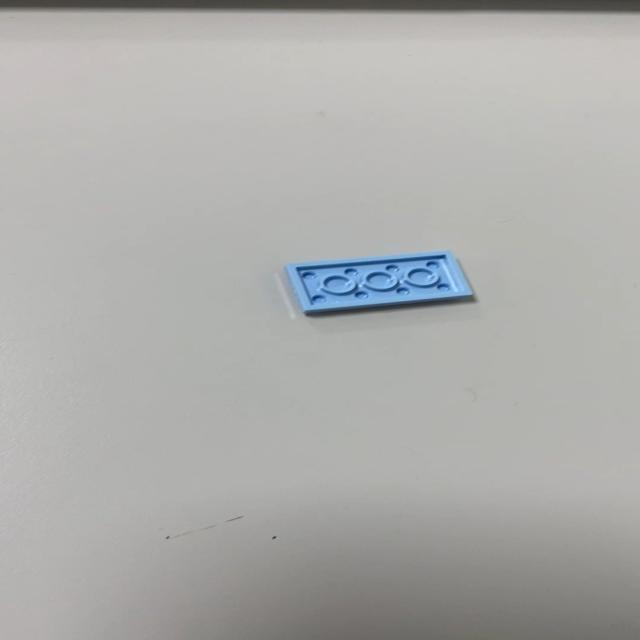C4x2x0: (283, 250, 474, 314)
